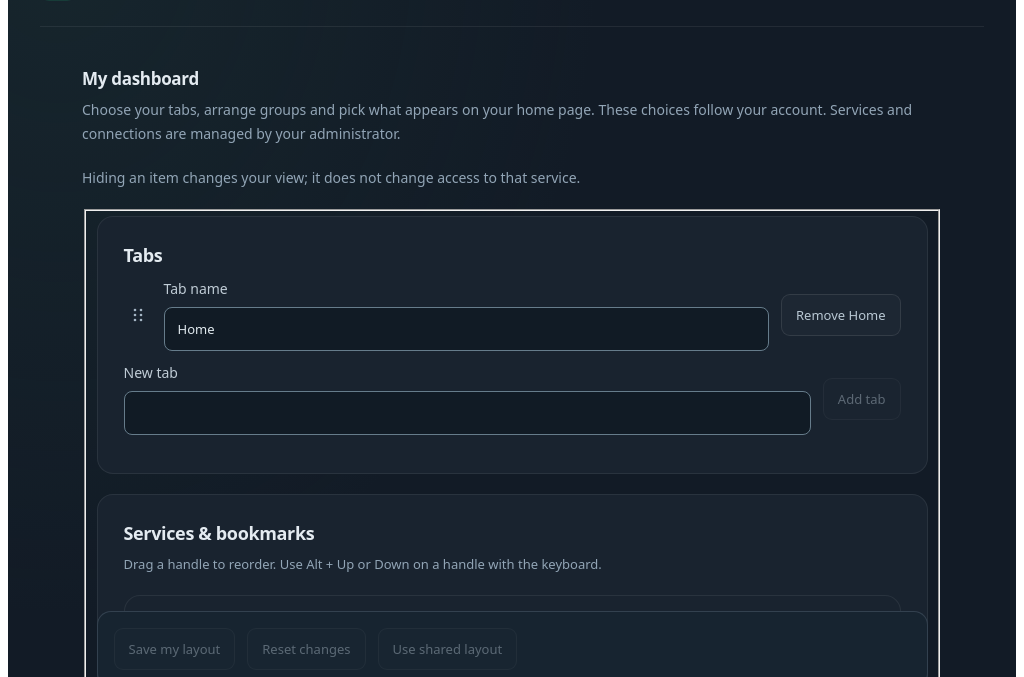
Test case: saves account layout choices and can return to the shared layout
Replace the text in the field named "Tab name 1" with "My home" at {"x": 466, "y": 329}, box [164,307,769,351]
(page scrolled)
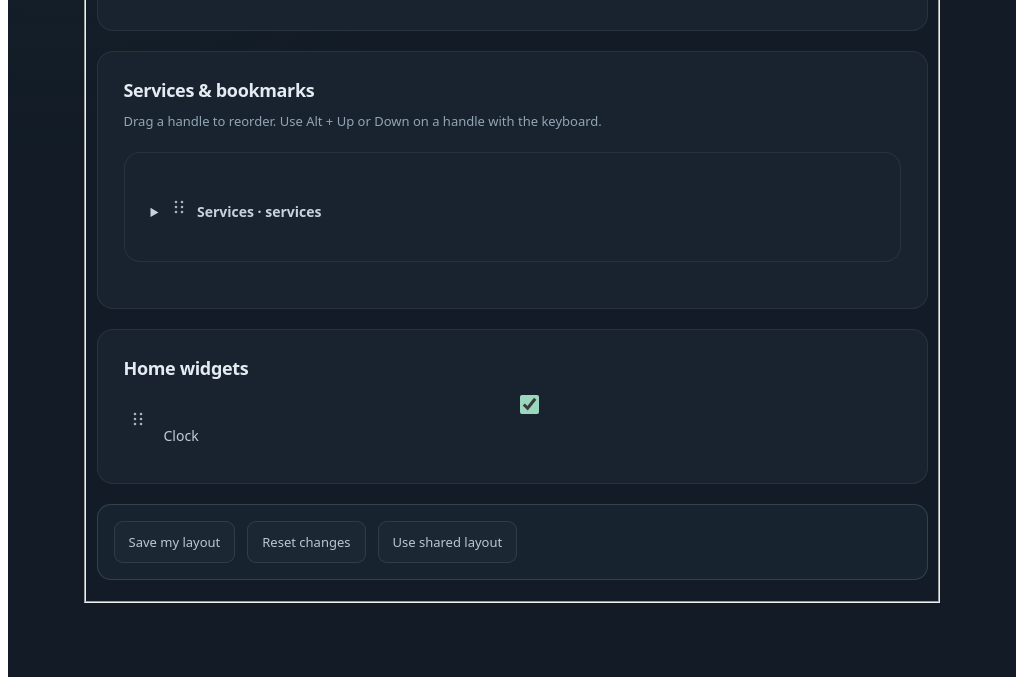
Click the checkbox labelled "Clock".
click(529, 405)  # box [168,395,890,414]
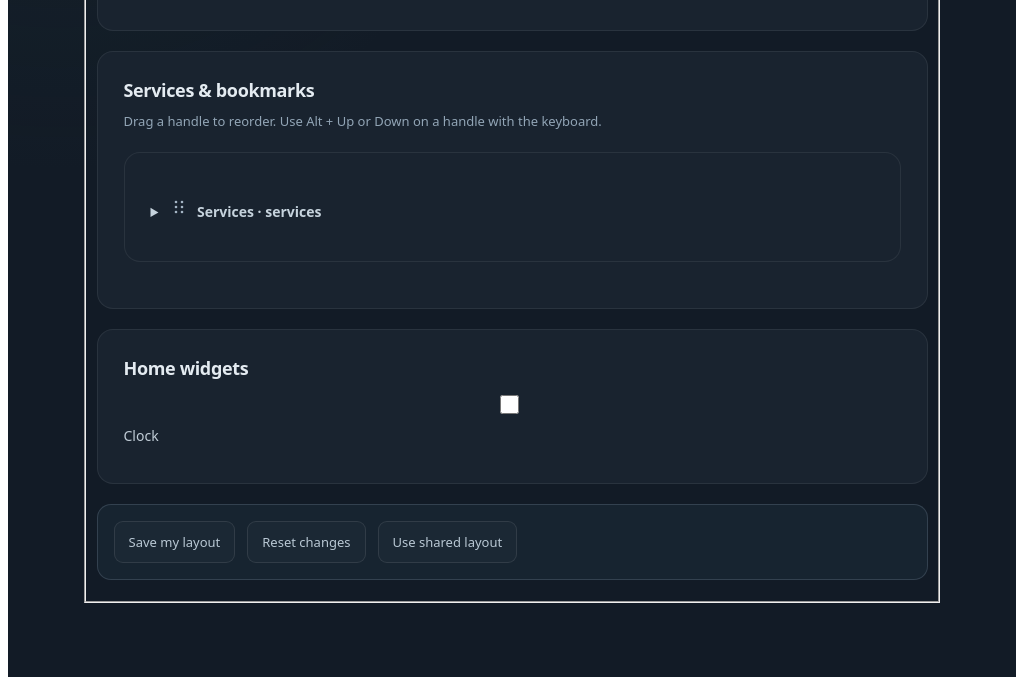
Click the button "Save my layout".
click(174, 542)  # box [114,521,235,563]
(page scrolled)
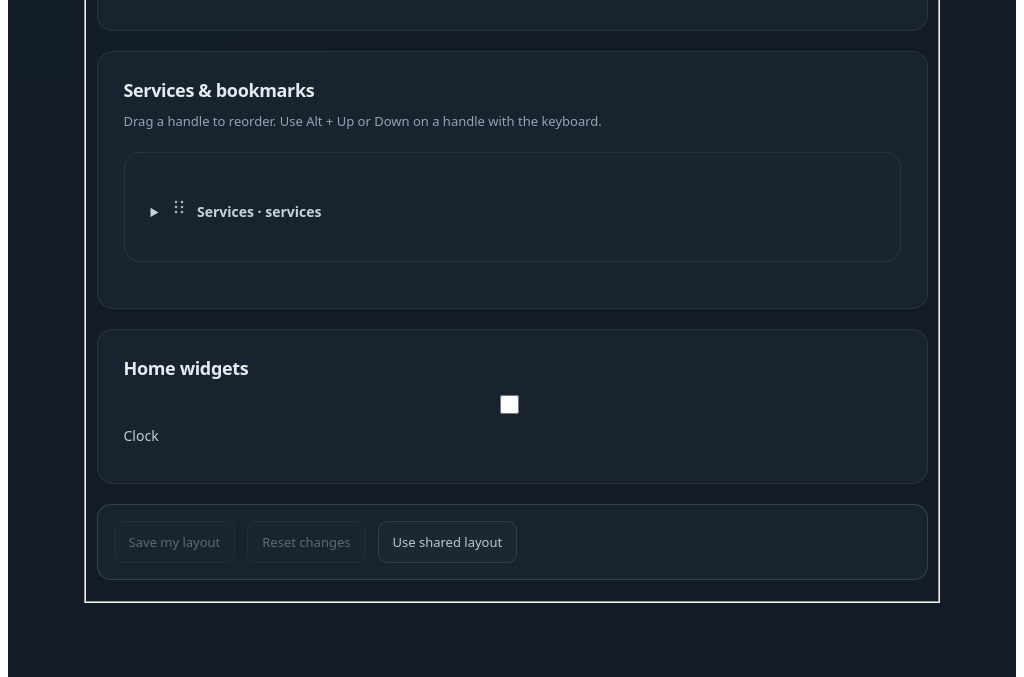
Click the button "Use shared layout".
click(447, 542)  # box [378,521,517,563]
(page scrolled)
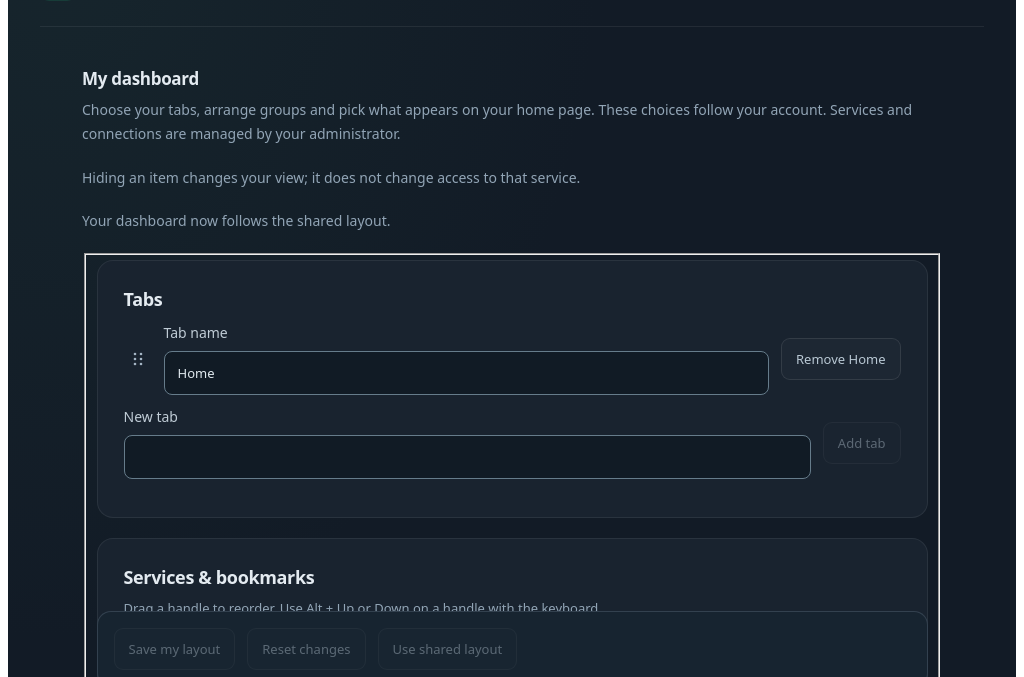
Expected: the text "Your dashboard now follows the shared layout." is shown, [82,211,390,230]
